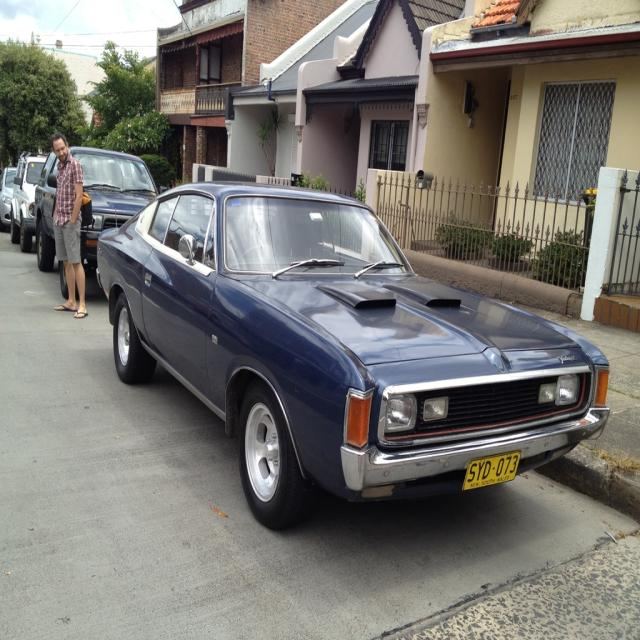car: (87, 182, 610, 526)
